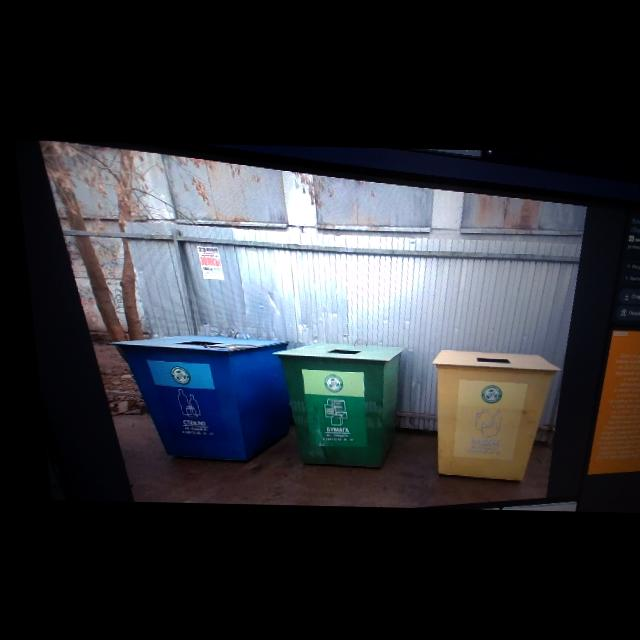Trash_Can_Closed: (103, 332, 292, 463), (418, 346, 563, 482), (265, 340, 405, 467)
